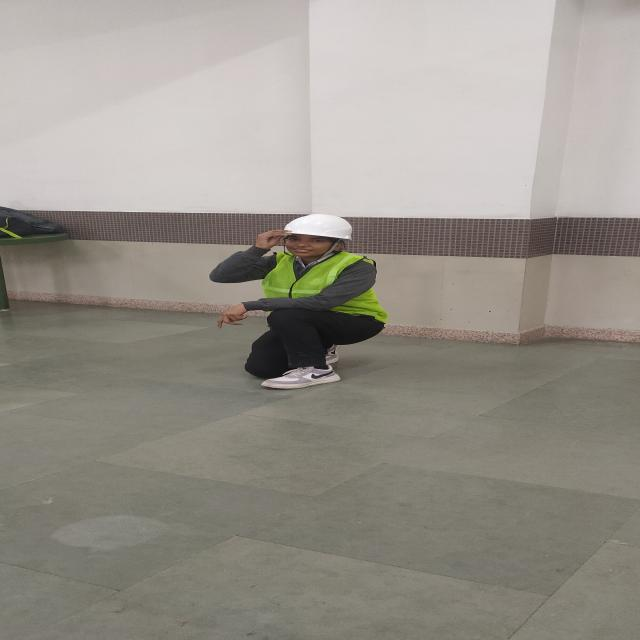safe: (246, 214, 390, 388)
